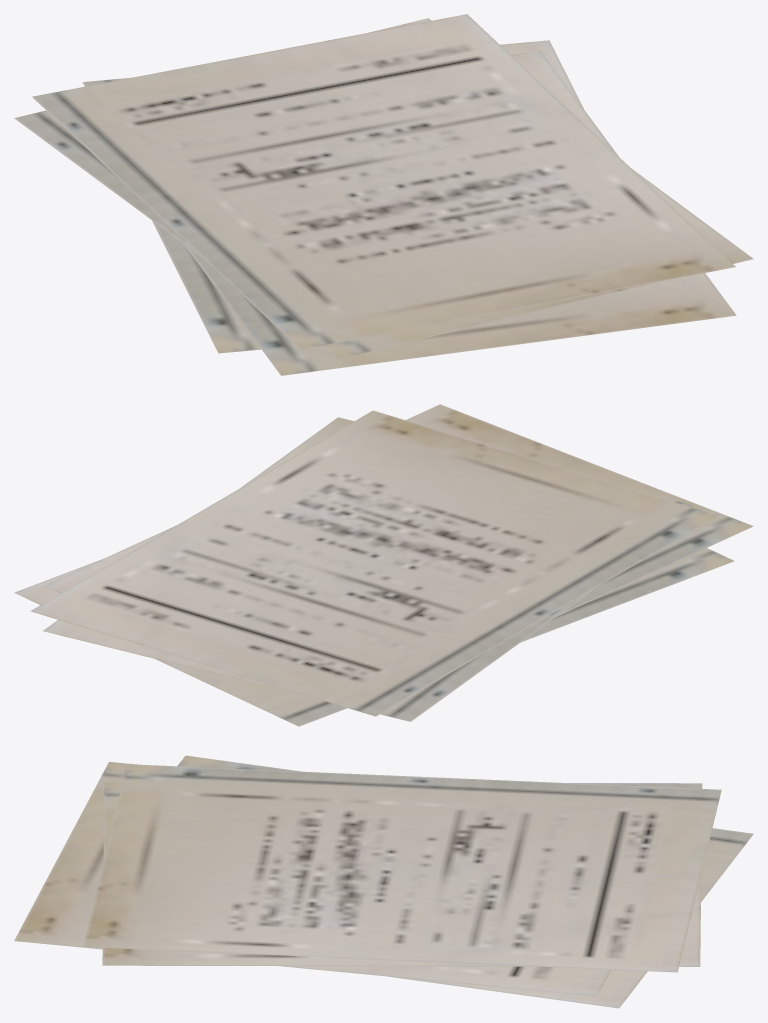
File: Classic64_PapersLog1Stack_Model.fbx
3 renders of one model, top to bottom at view 1: azimuth 30°, elevation 25°; view 2: azimuth 150°, elevation 25°; view 3: azimuth 270°, elevation 25°, orthographic. The views are drawn at different scales.
Parts seen in each view (by area): view 1: Classic64_PapersLog1Stack_Part000; view 2: Classic64_PapersLog1Stack_Part000; view 3: Classic64_PapersLog1Stack_Part000.
Boxes of the visible parts, <box> form: Classic64_PapersLog1Stack_Part000: <box>14,14,753,375</box>; Classic64_PapersLog1Stack_Part000: <box>14,404,753,726</box>; Classic64_PapersLog1Stack_Part000: <box>14,755,753,1008</box>.
Bounding box in the file's own units: 0.2798 × 0.00704 × 0.3458.
Materials: 1 (1 with a texture image).
